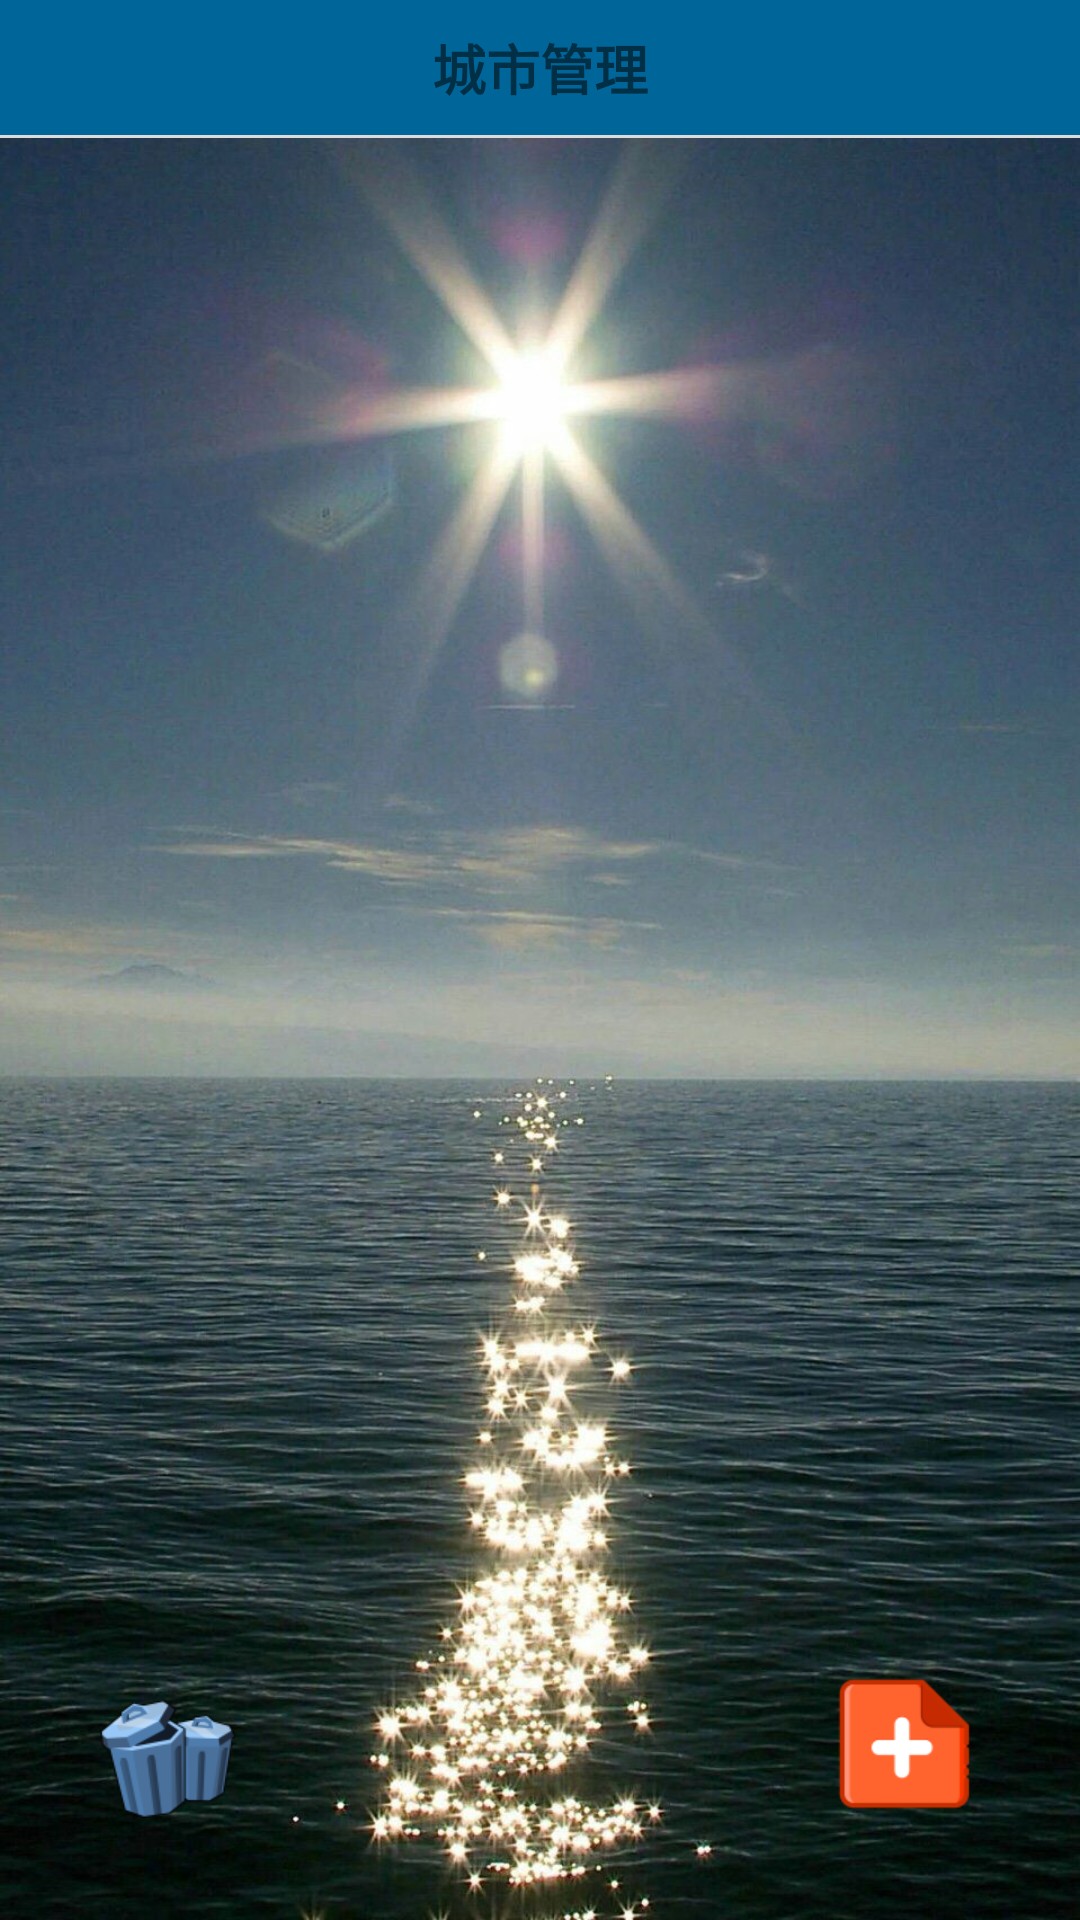

Point at icon controls on the screen. Image size 1080 × 1920, points as (x,y).
add: (906,1746)
shan: (165,1754)
